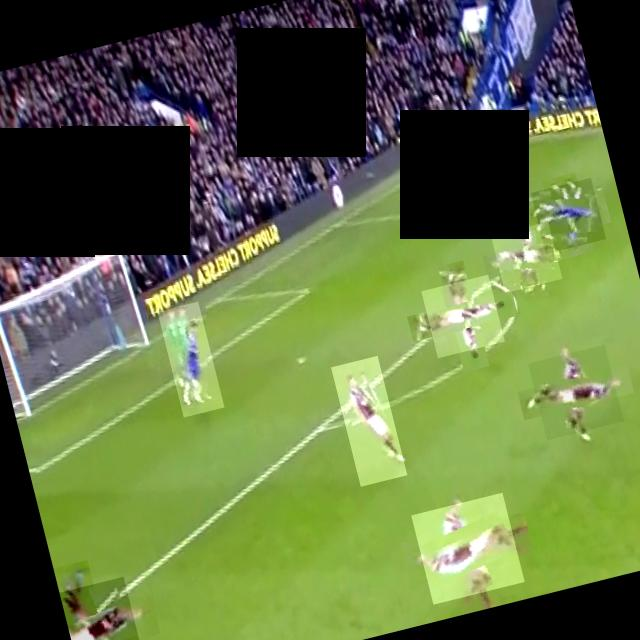soccer-player: (410, 492, 523, 604), (330, 354, 406, 486), (526, 343, 622, 439), (156, 300, 223, 416), (419, 273, 504, 357), (57, 575, 144, 640), (530, 176, 604, 252), (489, 220, 561, 292)
